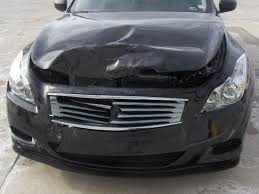Dent: (34, 40, 213, 86), (44, 124, 65, 143)
